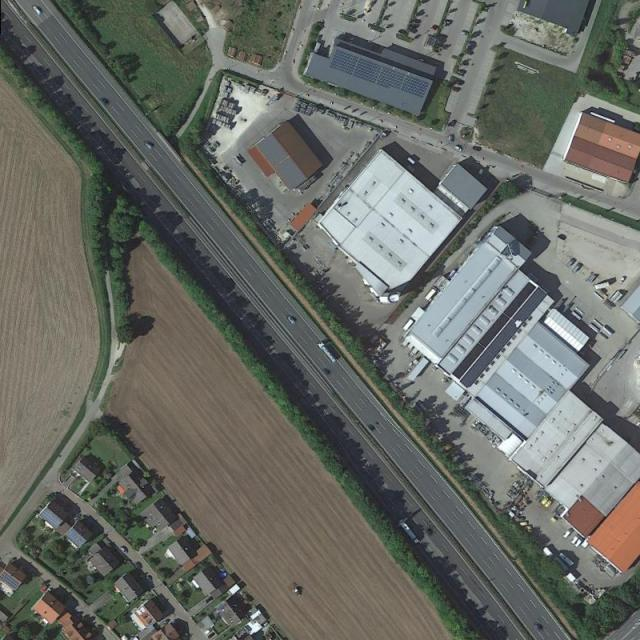vehicle: (400, 520, 420, 544), (318, 342, 336, 363), (287, 314, 297, 325), (562, 530, 573, 538), (571, 534, 578, 546), (574, 539, 583, 548), (101, 97, 110, 106), (366, 424, 376, 432), (454, 145, 463, 153), (146, 141, 154, 150), (33, 5, 41, 14), (323, 368, 331, 375), (121, 546, 128, 554), (535, 623, 542, 630), (460, 30, 469, 35), (449, 135, 454, 142), (636, 420, 640, 427)
